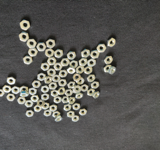nut: (20, 19, 31, 30), (23, 55, 34, 65), (19, 32, 30, 42), (46, 38, 56, 49), (107, 37, 117, 48), (27, 38, 37, 49), (37, 42, 47, 52), (54, 49, 64, 59), (67, 51, 77, 60), (45, 49, 55, 58), (97, 43, 106, 53), (7, 77, 16, 86), (32, 80, 41, 89), (41, 63, 50, 72), (59, 79, 68, 88), (88, 59, 97, 68), (104, 56, 113, 65), (29, 48, 38, 57), (12, 86, 21, 95), (41, 85, 50, 94), (104, 64, 113, 73), (48, 57, 57, 66), (54, 62, 63, 71), (61, 58, 70, 67), (37, 99, 46, 108), (76, 65, 85, 74), (91, 50, 100, 59), (6, 94, 16, 102), (81, 50, 91, 58), (47, 69, 57, 77), (28, 88, 38, 96), (51, 90, 60, 98), (44, 110, 53, 118), (59, 70, 68, 78), (87, 75, 96, 83), (81, 84, 89, 93), (73, 74, 82, 82), (3, 85, 12, 93), (31, 95, 40, 103), (109, 66, 117, 75), (37, 73, 46, 81), (80, 58, 88, 67), (49, 82, 58, 90), (87, 89, 96, 97), (80, 109, 88, 117), (62, 96, 70, 104), (26, 110, 34, 118), (18, 97, 26, 105), (70, 60, 78, 68), (34, 105, 42, 113), (72, 115, 80, 123), (64, 104, 72, 112), (73, 103, 81, 111), (45, 76, 53, 84), (68, 81, 76, 89), (41, 94, 50, 101), (54, 97, 62, 104), (25, 101, 33, 108), (42, 103, 50, 110), (50, 105, 58, 112), (69, 97, 76, 105), (65, 90, 73, 97), (58, 88, 66, 95), (93, 91, 100, 99), (92, 82, 100, 89), (74, 86, 81, 94), (77, 78, 85, 85), (67, 68, 76, 74), (20, 86, 29, 92), (53, 75, 60, 82), (67, 112, 75, 118), (55, 116, 63, 122), (53, 112, 61, 118), (76, 93, 84, 99), (20, 92, 29, 97), (0, 89, 5, 97)
